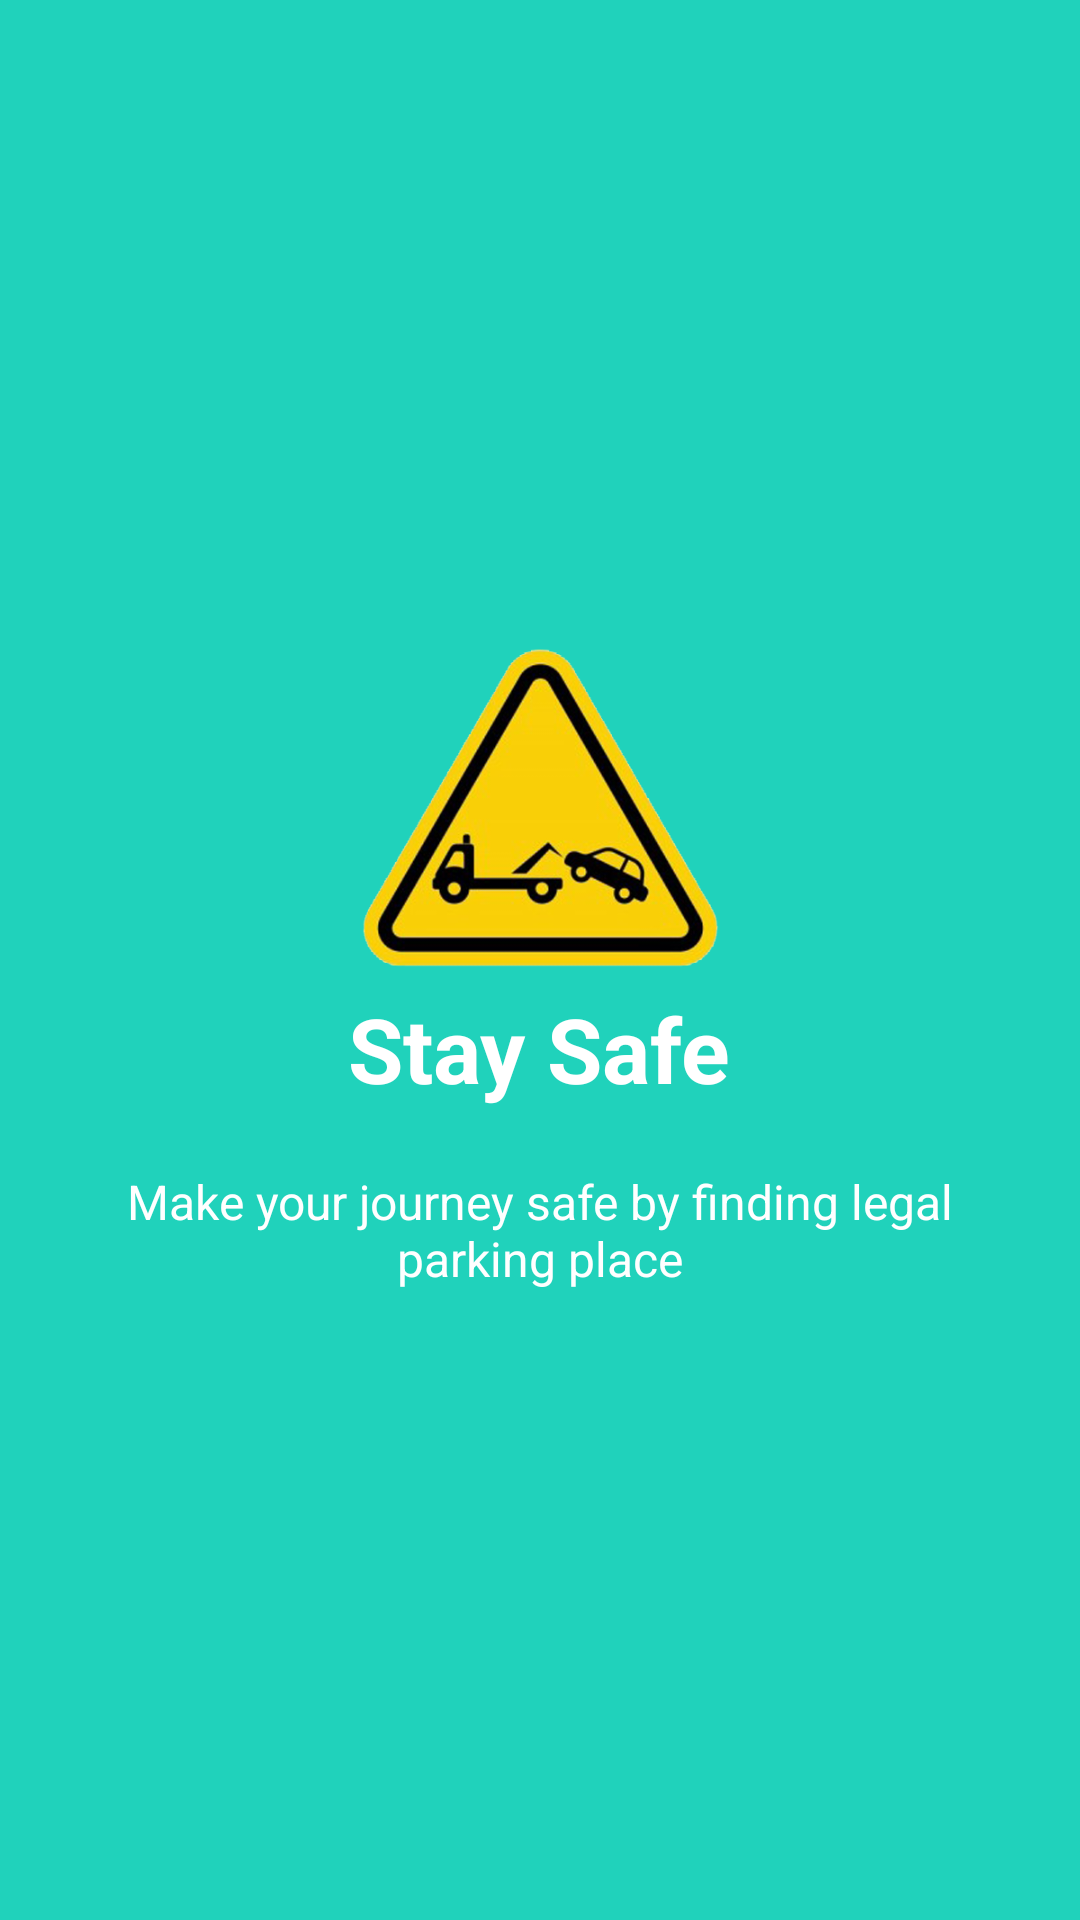

Screen size 1080 x 1920. Icon name, then its box in pixels as (x1,y1,x2,y2):
parkingproblem: (363,649,718,966)
